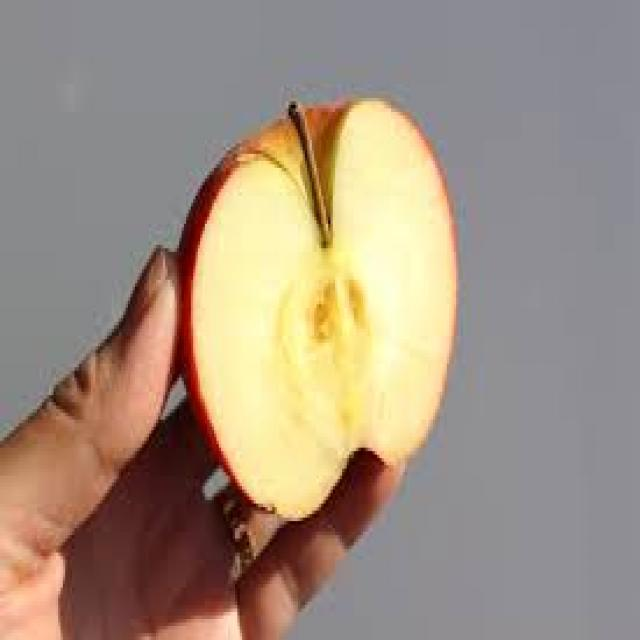Apple: (180, 98, 461, 516)
